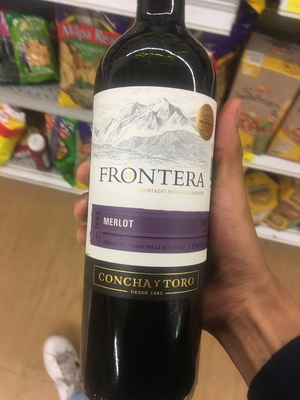frontera merlot: (76, 7, 222, 399)
